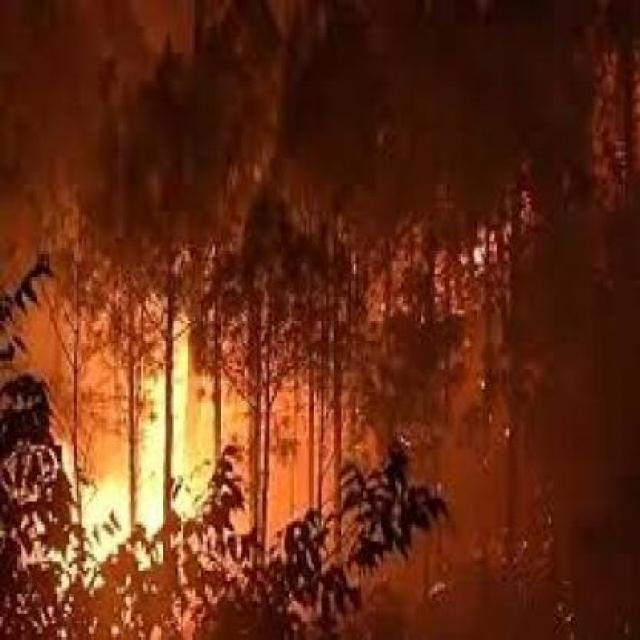Fire: (14, 266, 271, 640)
